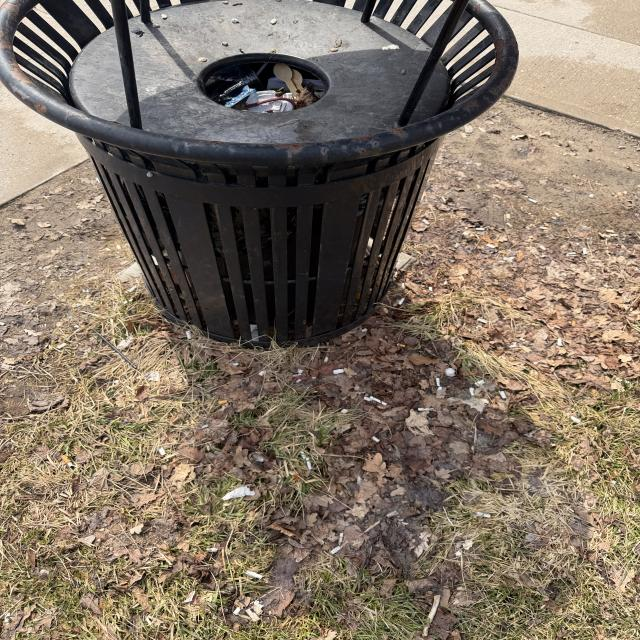Dustbin: (0, 0, 517, 352)
